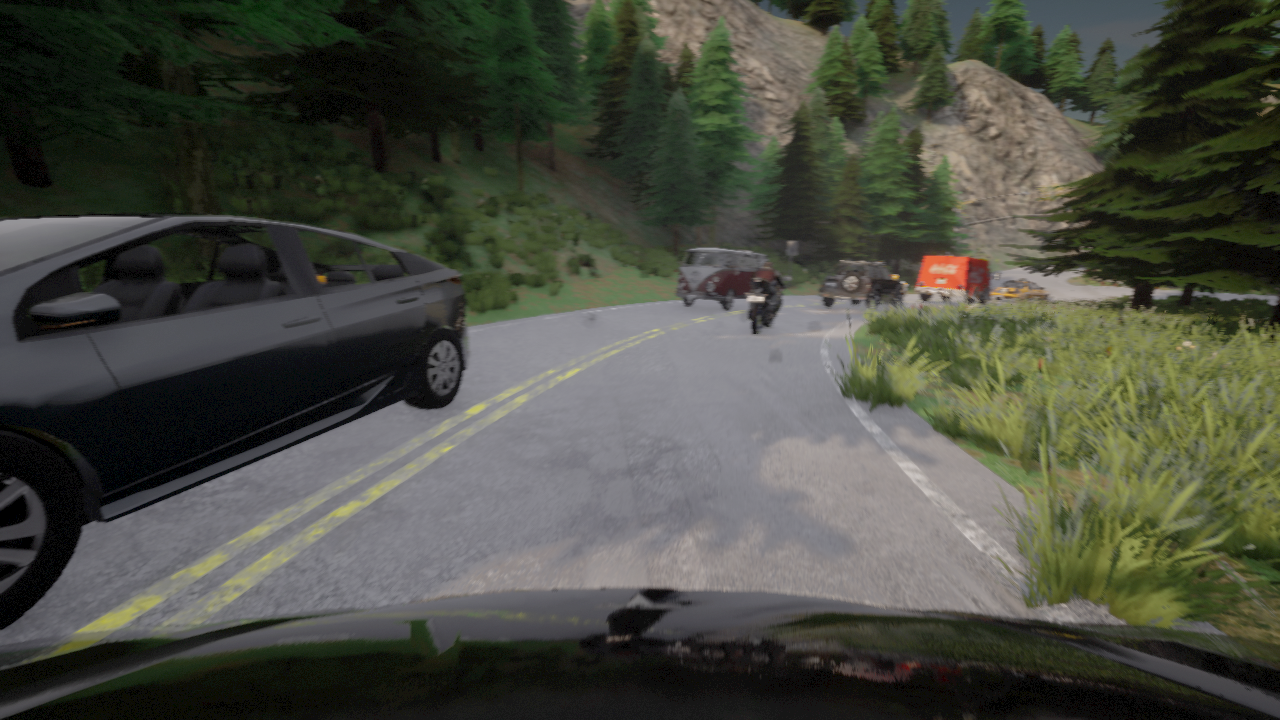cyclist: (0, 212, 468, 631), (0, 588, 1279, 719), (676, 247, 768, 309), (819, 261, 906, 311), (915, 255, 999, 305), (745, 276, 790, 335), (991, 279, 1050, 301), (1077, 262, 1097, 266)
